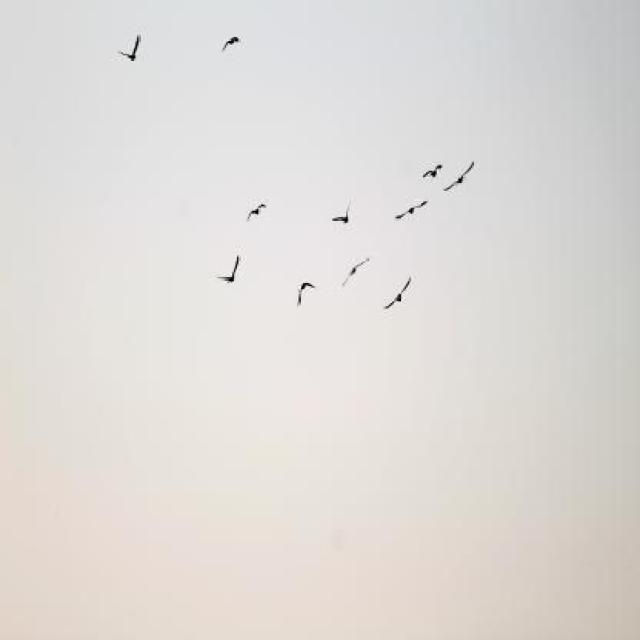bird: (343, 260, 371, 288), (446, 164, 472, 193), (386, 280, 411, 309), (218, 259, 242, 286), (397, 202, 429, 220), (120, 37, 142, 61), (246, 203, 268, 223), (297, 282, 317, 304), (331, 206, 349, 225), (423, 164, 446, 178), (222, 36, 240, 52)
